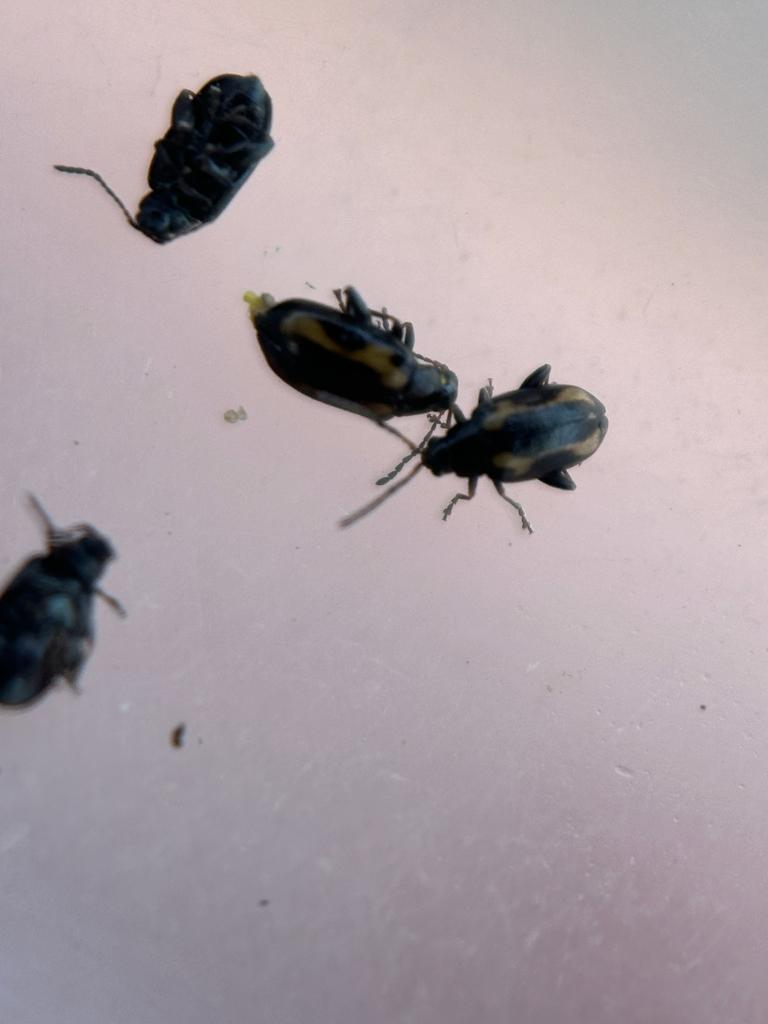flea_beetle: (36, 19, 316, 303), (375, 332, 654, 569), (238, 248, 471, 466), (0, 470, 173, 731)
